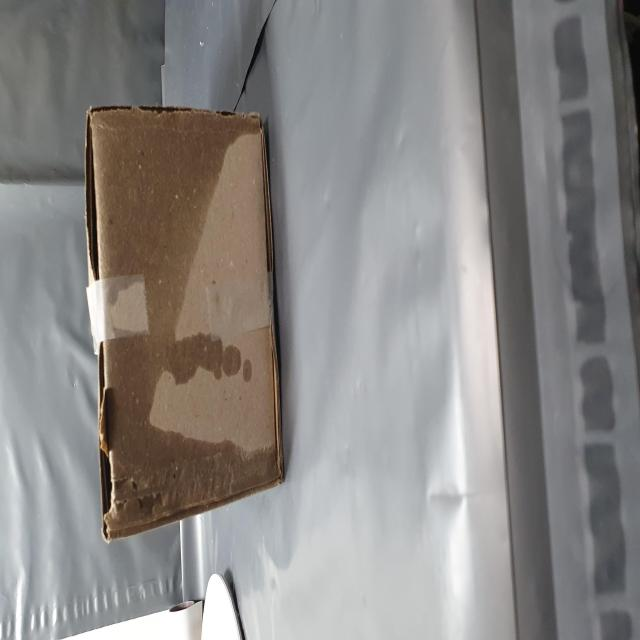wet: (72, 170, 300, 510)
